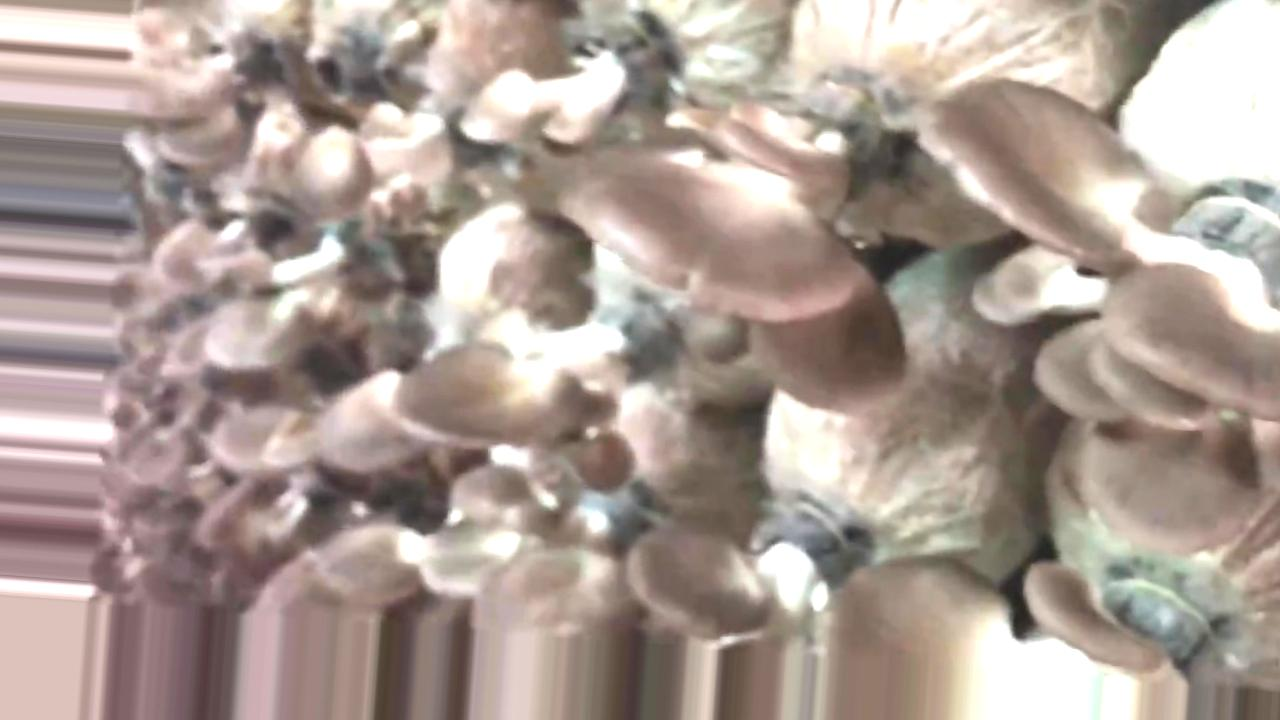nam: (921, 67, 1280, 433), (570, 64, 923, 420), (620, 492, 874, 639)
